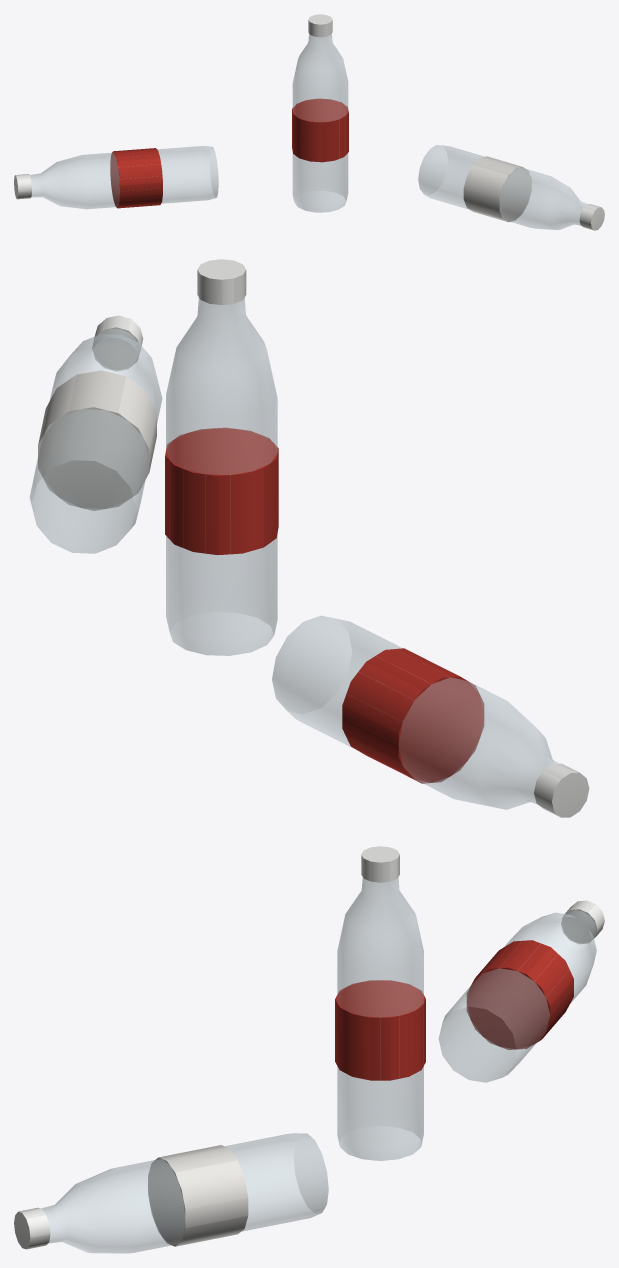
Rendered from bottles_litter.glb.
The picture shows the model from 3 angles, top to bottom: view 1: azimuth 30°, elevation 25°; view 2: azimuth 150°, elevation 25°; view 3: azimuth 270°, elevation 25°; orthographic projection. The views are drawn at different scales.
Parts seen in each view (by area): view 1: glass, body; view 2: glass, body; view 3: glass, body.
Boxes of the visible parts, box(x1,y1,x2,y2) form: glass: box(30, 34, 587, 229); body: box(14, 14, 604, 230); glass: box(29, 298, 558, 809); body: box(38, 259, 589, 817); glass: box(41, 877, 596, 1253); body: box(14, 846, 604, 1249).
Size of the model in its own units: 0.5508 by 0.2308 by 0.4262.
